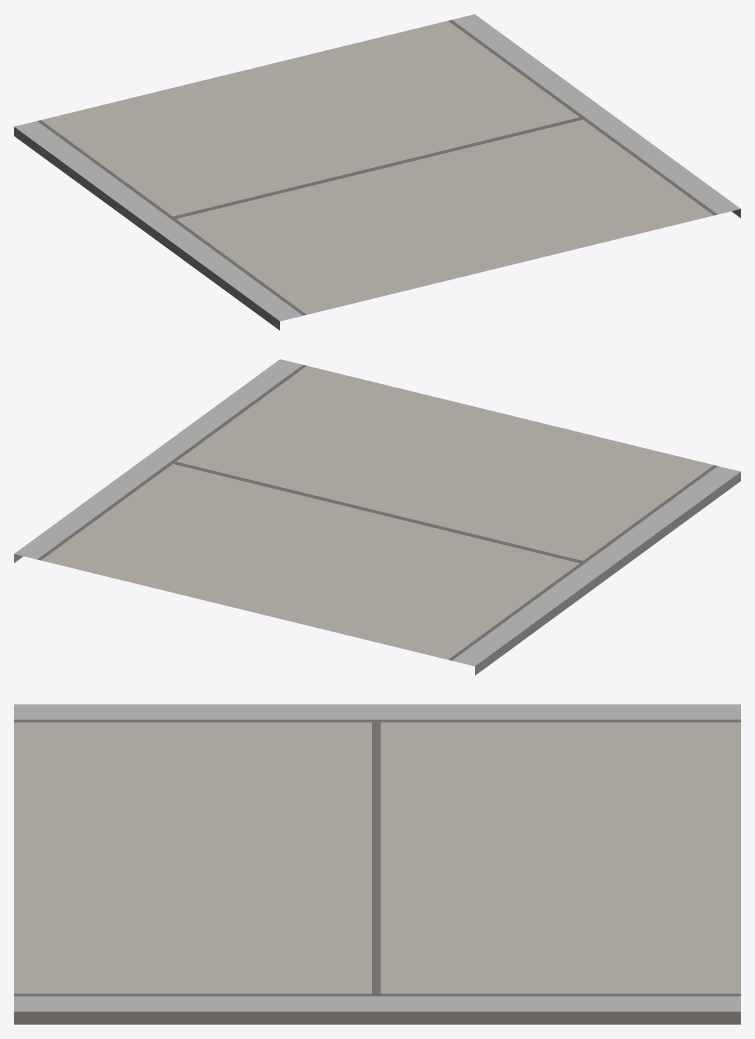
File: SA_Env_Path_Driveway_01.gltf
3 views of the same model, one above another, from view 1: azimuth 30°, elevation 25°; view 2: azimuth 150°, elevation 25°; view 3: azimuth 270°, elevation 25° (orthographic). The views are drawn at different scales.
Parts seen in each view (by area): view 1: SA_Env_Path_Driveway_01; view 2: SA_Env_Path_Driveway_01; view 3: SA_Env_Path_Driveway_01.
Part boxes in pixels (bbox=[...]): SA_Env_Path_Driveway_01: bbox=[14, 14, 740, 330]; SA_Env_Path_Driveway_01: bbox=[14, 359, 740, 675]; SA_Env_Path_Driveway_01: bbox=[14, 704, 740, 1024].
Size of the model in its own units: 10 by 0.1948 by 10.
Materials: 1 (1 with a texture image).
